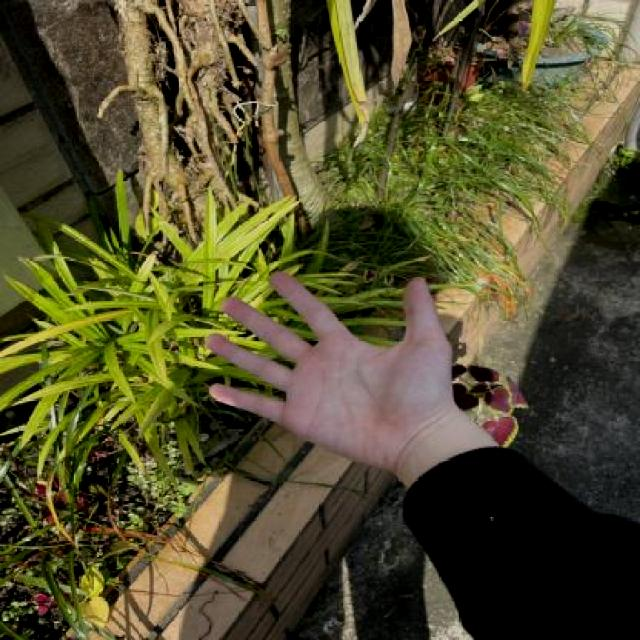no_glove: (182, 254, 472, 468)
